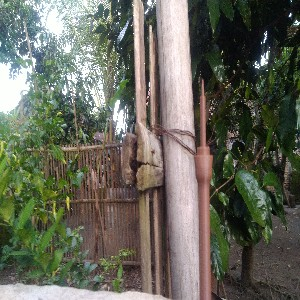solder: (193, 77, 215, 300)
